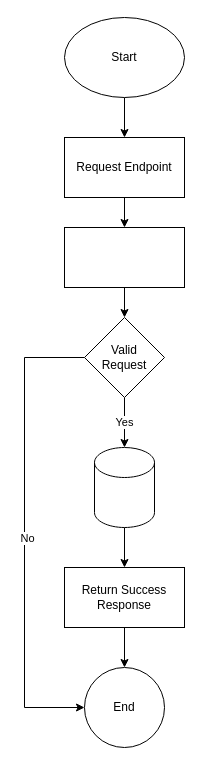
The diagram is 202 pixels wide and 765 high, and some of its shapes have lost their labels. The shapes that lost their labels are listed below. From the top down, each one's centre as x and y in pixels, then its label:
At pixel 124 257: "Intercept RBA".
At pixel 124 487: "FHIR Data".
